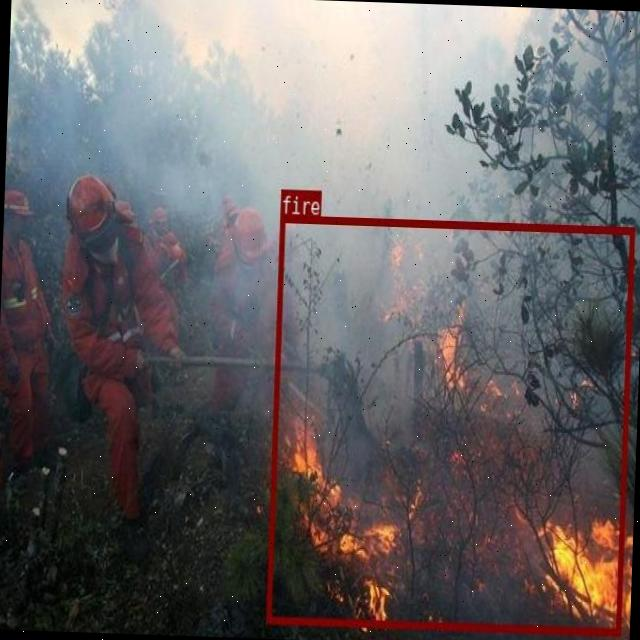fire: (264, 214, 634, 634)
